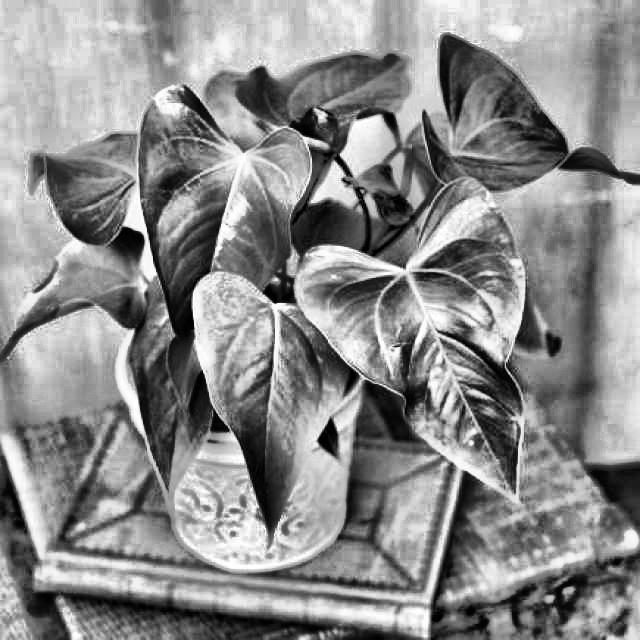plants: (133, 85, 522, 531), (3, 233, 133, 361), (523, 83, 639, 210), (523, 292, 574, 379)
